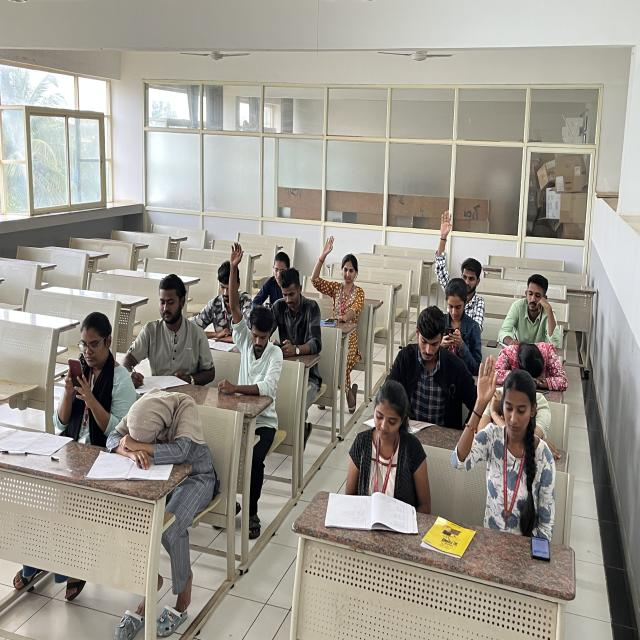Hand Rising: (448, 348, 564, 531), (221, 240, 284, 404), (424, 203, 486, 301), (313, 235, 364, 328)
Reading: (329, 376, 426, 548), (197, 260, 242, 352)
Sleeping: (106, 377, 220, 514), (491, 326, 573, 394)
Using Phone: (51, 303, 131, 451), (266, 263, 326, 369), (432, 272, 486, 366), (249, 247, 287, 317)
Writing: (360, 302, 471, 438), (125, 270, 214, 399), (494, 265, 574, 360)
